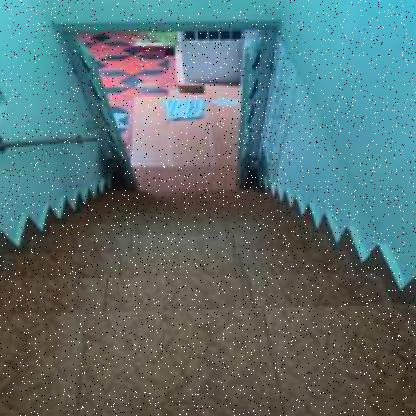stair_down: (19, 218, 322, 358)
